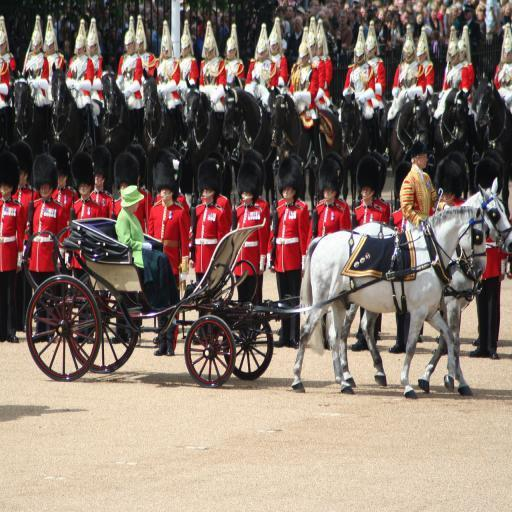horse: (290, 204, 488, 396), (340, 177, 512, 396)
